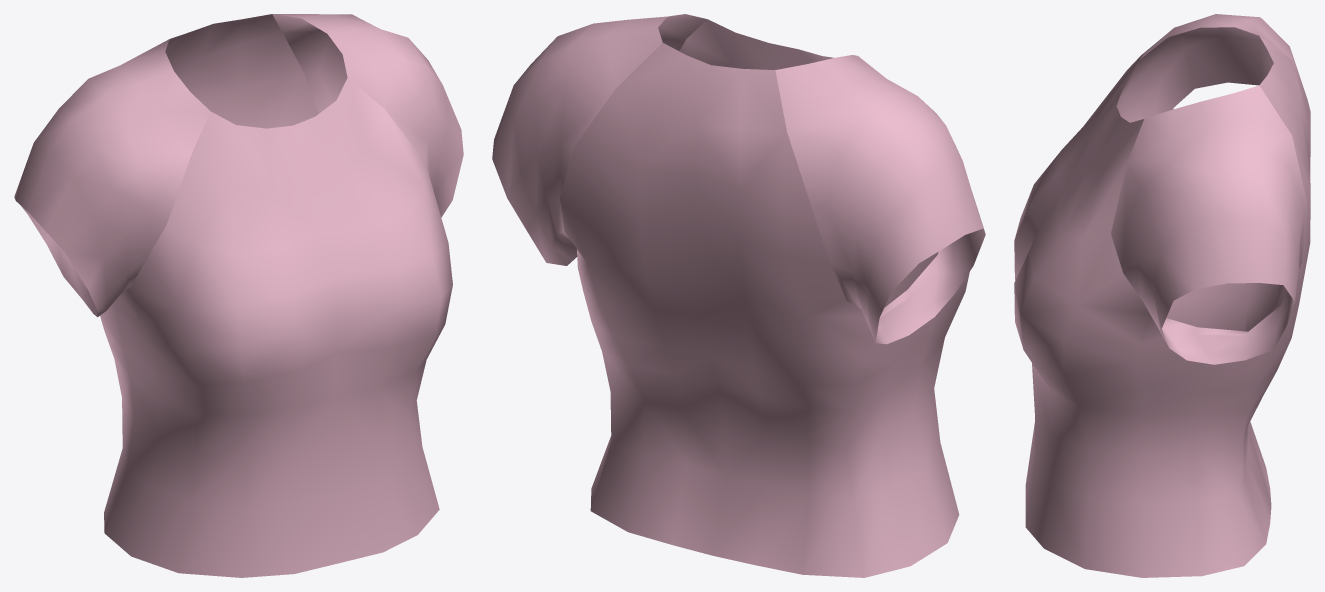
The model's file is blouse_04.glb.
3 renders of one model, left to right at view 1: azimuth 30°, elevation 25°; view 2: azimuth 150°, elevation 25°; view 3: azimuth 270°, elevation 25°, orthographic. The views are drawn at different scales.
Visible parts, largest first — view 1: blouse_04; view 2: blouse_04; view 3: blouse_04.
Boxes of the visible parts, x1,y1,x2,y2 form: blouse_04: (14, 14, 463, 577); blouse_04: (492, 14, 985, 577); blouse_04: (1014, 14, 1310, 577).
Size of the model in its own units: 0.3953 by 0.4094 by 0.2466.
